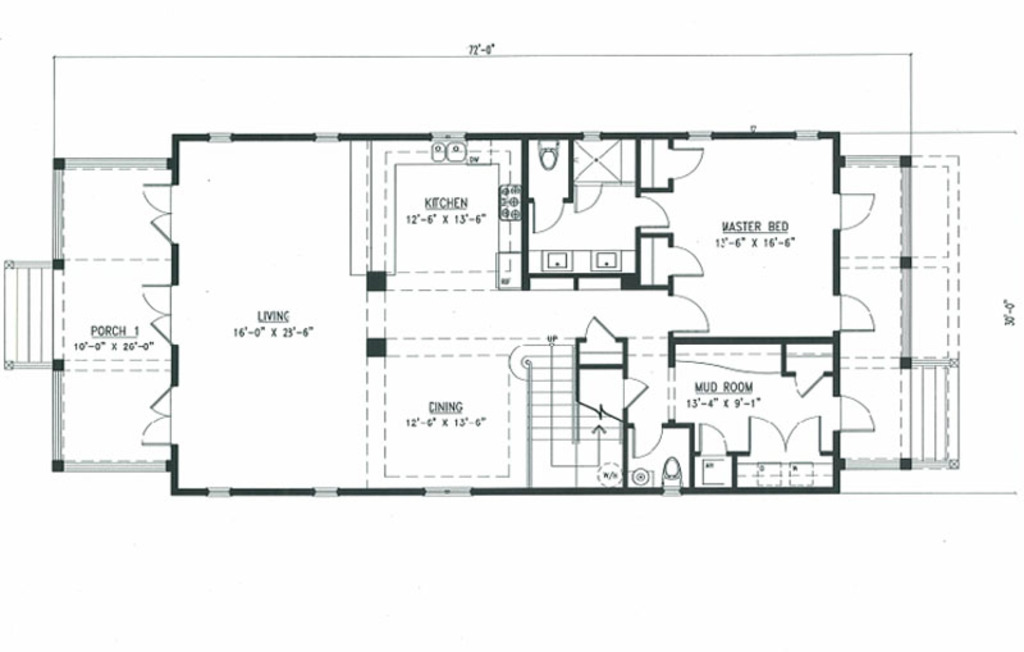door: (746, 413, 823, 453), (136, 280, 178, 351), (139, 180, 178, 242), (137, 387, 174, 445), (835, 187, 879, 232), (835, 391, 878, 437), (671, 291, 712, 337), (835, 291, 875, 333), (526, 196, 565, 238), (666, 242, 706, 279), (669, 144, 705, 181), (635, 194, 672, 230), (577, 313, 615, 342), (631, 424, 663, 458), (621, 373, 647, 412), (571, 184, 605, 213)
large_sink: (536, 139, 562, 170), (656, 458, 684, 485)
small_sink: (526, 248, 635, 273)
stairs: (511, 338, 626, 492), (896, 362, 963, 469), (1, 260, 61, 367)
twin_sink: (428, 141, 472, 167)
windows: (418, 482, 473, 499), (310, 130, 343, 147), (206, 485, 239, 500), (683, 128, 715, 143), (312, 485, 339, 502), (793, 127, 820, 143), (206, 131, 232, 144)
